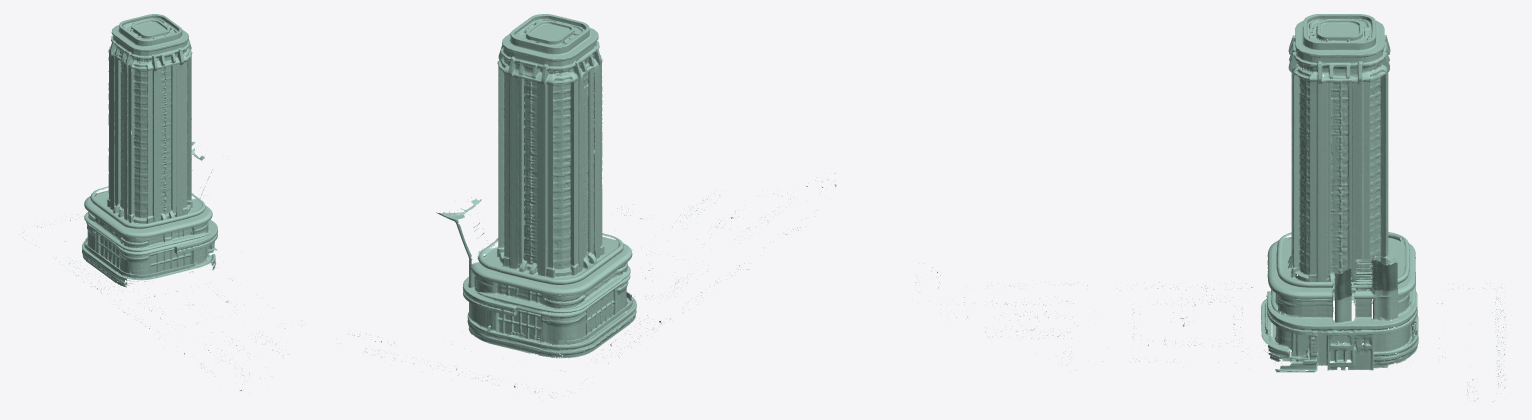
File: cyberpunk-block-06-building-0.glb
3 renders of one model, left to right at view 1: azimuth 30°, elevation 25°; view 2: azimuth 150°, elevation 25°; view 3: azimuth 270°, elevation 25°, orthographic. The views are drawn at different scales.
Visible parts, largest first — view 1: building_0; view 2: building_0; view 3: building_0.
Boxes of the visible parts, x1,y1,x2,y2 form: building_0: (22,14,301,390); building_0: (354,14,836,397); building_0: (912,14,1510,401).
Size of the model in its own units: 0.8849 by 1.03 by 1.88.
